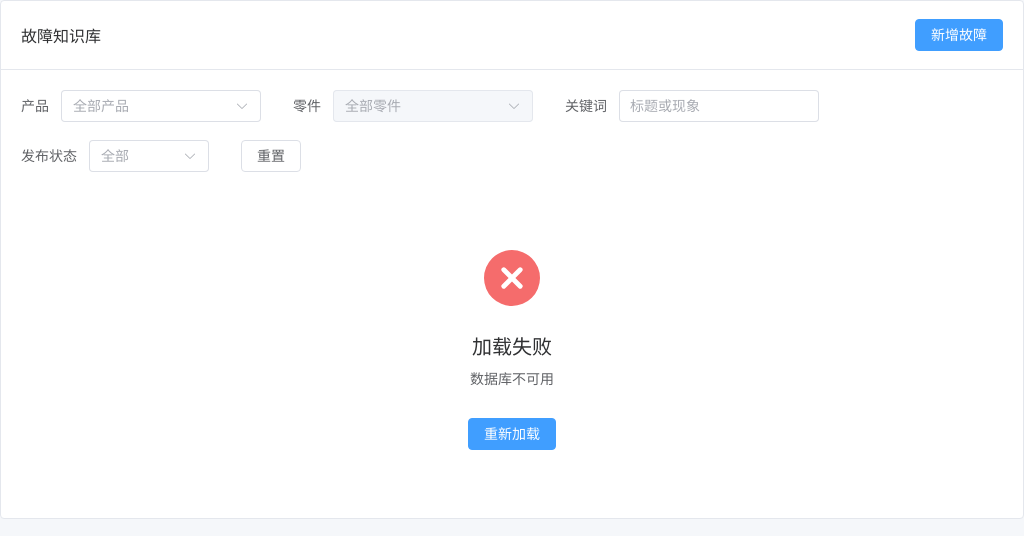
FaultList › 列表加载失败进入错误态，重试后表格恢复
The image size is (1024, 536).
Click the button "重新加载" at [512, 434], box [468,418,556,450]
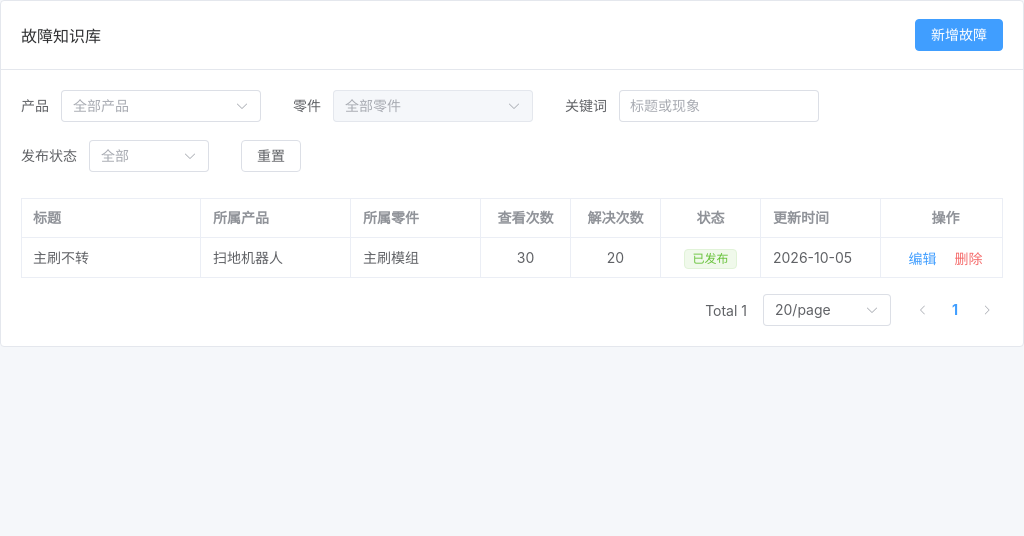
Now the element that starts with "所属产品" is shown, box [21,198,1003,278]
Now the text "主刷不转" is shown, box [33,249,89,266]
